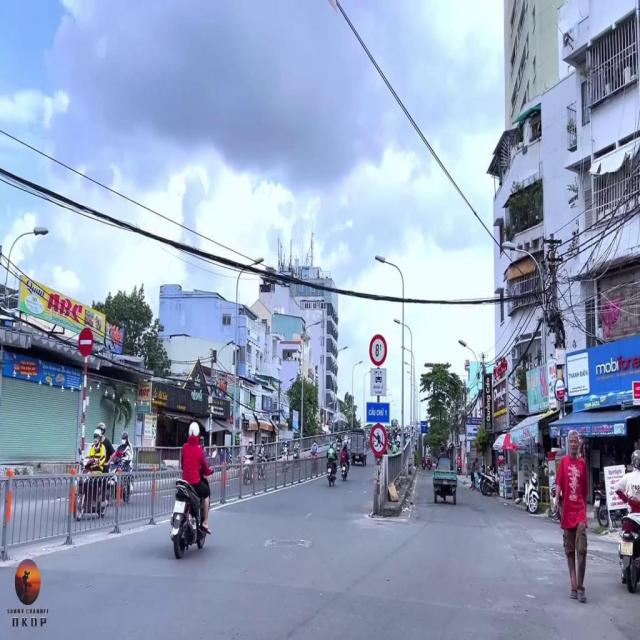cam_xe_di_nguoc_chieu: (77, 328, 93, 357)
khac: (370, 334, 388, 366), (370, 424, 388, 455), (366, 402, 390, 422), (371, 369, 386, 396), (420, 421, 428, 433)
